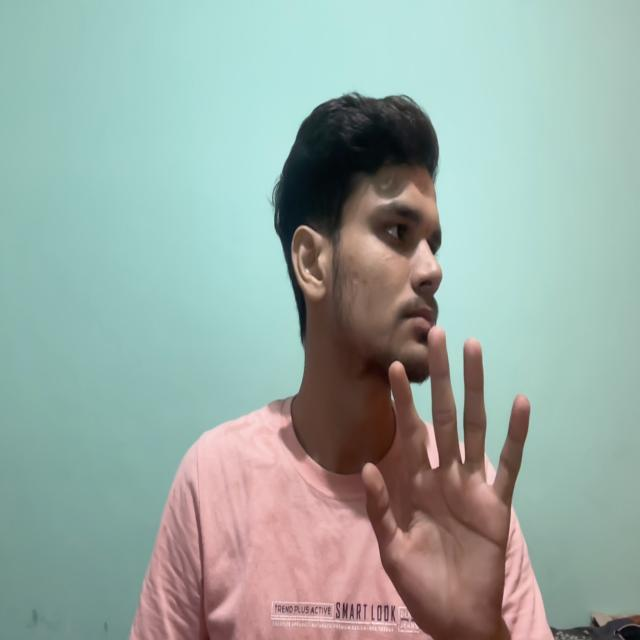hello: (353, 302, 562, 634)
